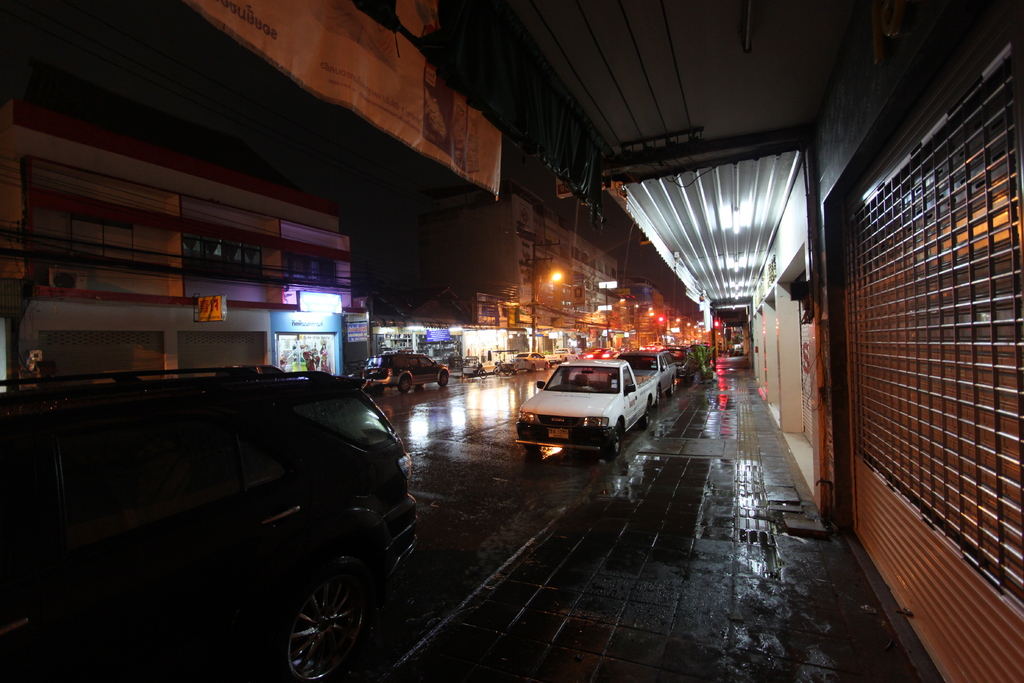Car: (0, 360, 421, 682), (363, 349, 449, 397), (613, 347, 677, 402), (660, 345, 695, 388), (511, 350, 551, 371), (584, 346, 620, 356)
